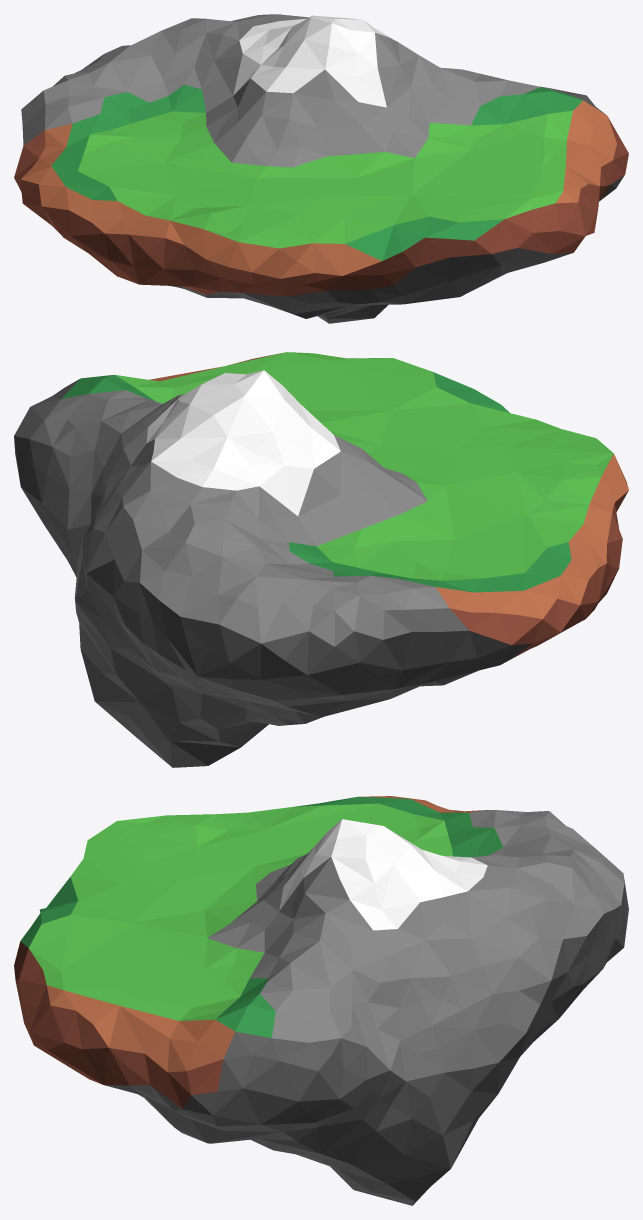
File: Platform3.glb
The picture shows the model from 3 angles, top to bottom: view 1: azimuth 30°, elevation 25°; view 2: azimuth 150°, elevation 25°; view 3: azimuth 270°, elevation 25°; orthographic projection. The views are drawn at different scales.
Parts seen in each view (by area): view 1: Icosphere; view 2: Icosphere; view 3: Icosphere.
Boxes of the visible parts, x1,y1,x2,y2 form: Icosphere: (14,14,628,323); Icosphere: (14,352,628,767); Icosphere: (14,796,628,1205).
Size of the model in its own units: 42.34 by 25.57 by 39.38.
1 material, 1 textured.
